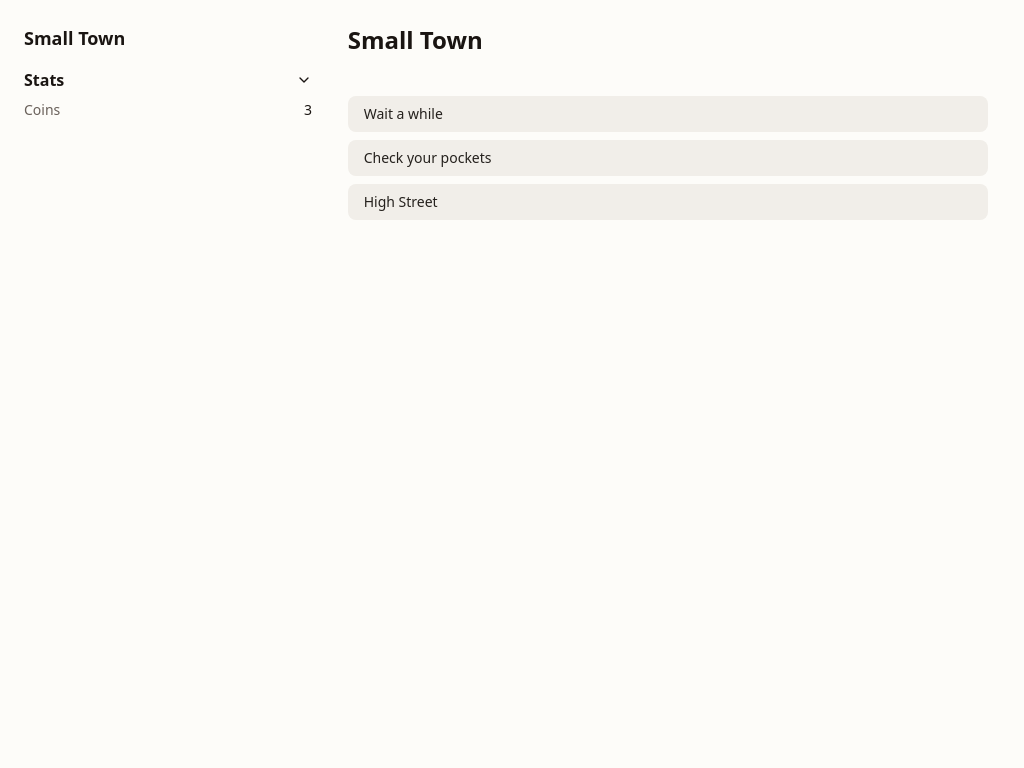
Test case: panels by name › draw a built-in panel content opens, and the game’s own panel of that name instead
Later steps or results of the test are not shown.
Click the button "Check your pockets".
click(428, 158)  # box [348, 140, 988, 176]
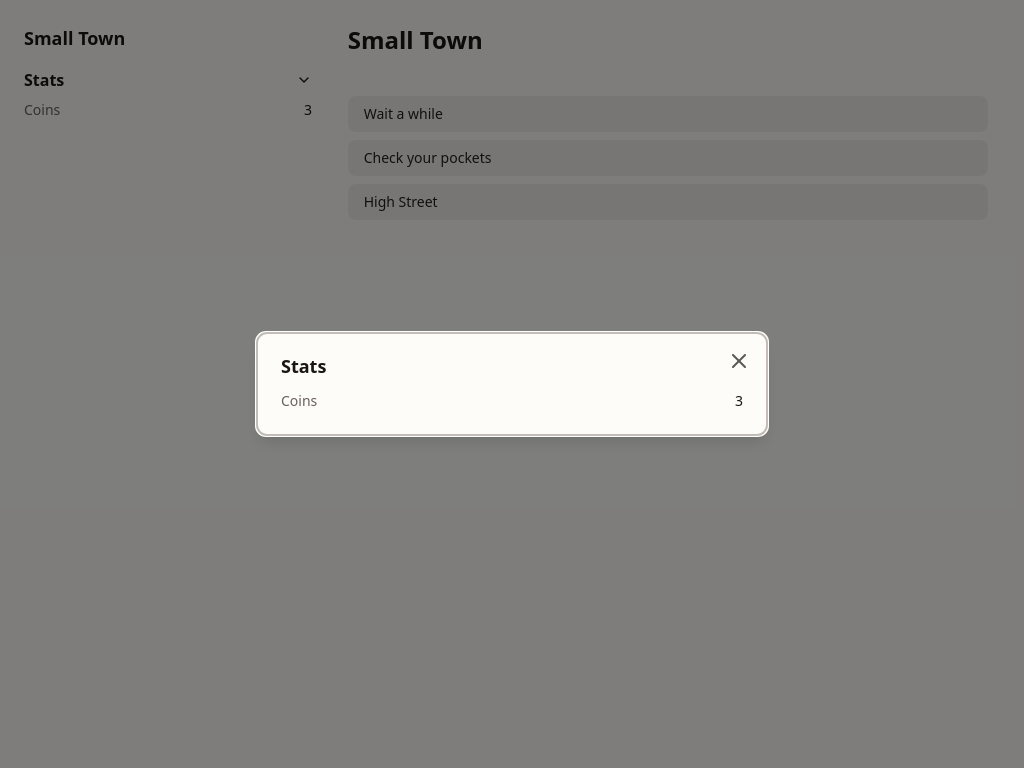
Check: the text "Coins" is shown, box [281, 391, 317, 410]
